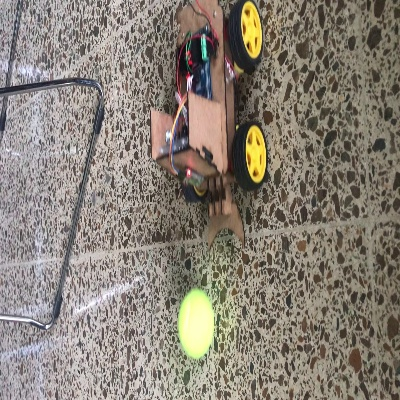Ball: (176, 288, 214, 359)
Robot: (150, 3, 269, 247)
